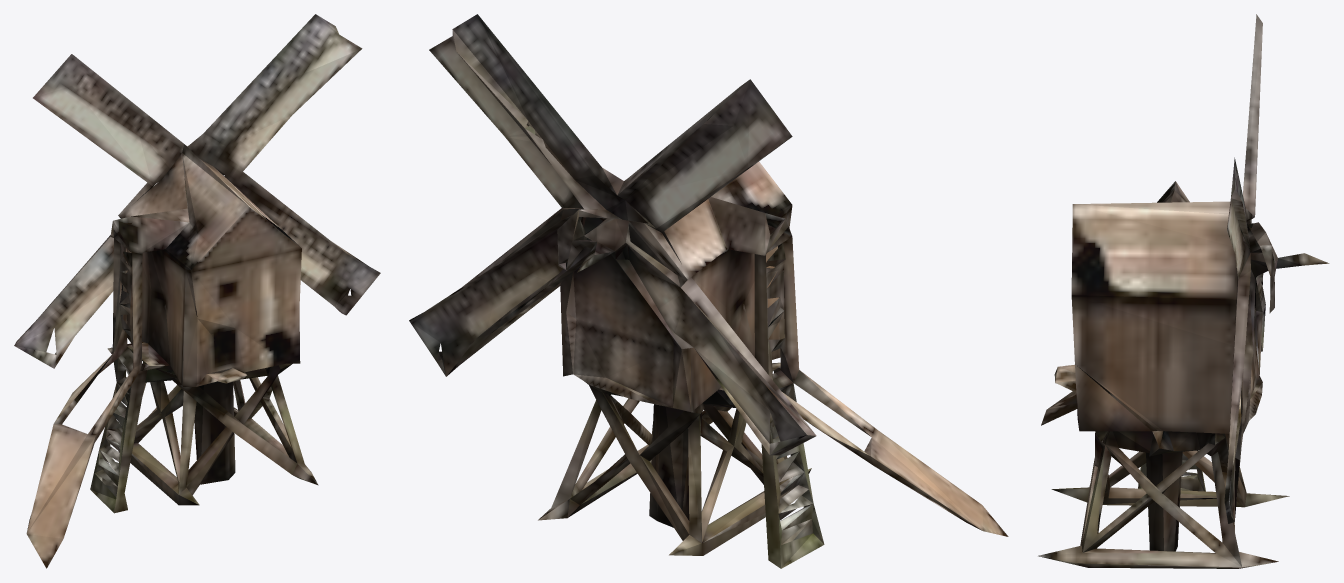
File: ga3_windmill_lod2.glb
3 renders of one model, left to right at view 1: azimuth 30°, elevation 25°; view 2: azimuth 150°, elevation 25°; view 3: azimuth 270°, elevation 25°, orthographic. The views are drawn at different scales.
Visible parts, largest first — view 1: ga3_windmill_lod2; view 2: ga3_windmill_lod2; view 3: ga3_windmill_lod2.
Part boxes in pixels (x1,y1,x2,y2): ga3_windmill_lod2: [14, 14, 380, 568]; ga3_windmill_lod2: [409, 14, 1008, 568]; ga3_windmill_lod2: [1038, 14, 1329, 568].
Size of the model in its own units: 14.36 by 13.9 by 7.66.
1 material, 1 textured.
